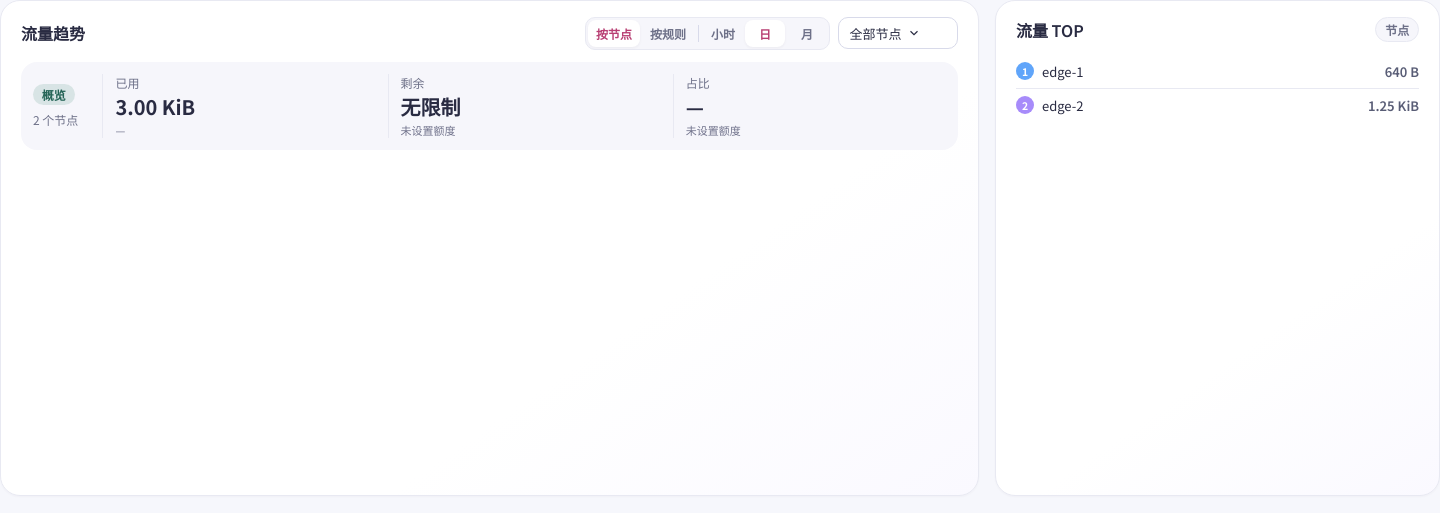
Test: DashboardTrafficModule › drives the traffic TOP card from the shared view switch
Expected: the element with class "dt-top-item" showing "1 edge-1 640 B" is shown, [1016,54,1419,89]
Click the button with test id "trend-view-btn" showing "按规则".
click(668, 33)  # box [642,20,694,47]
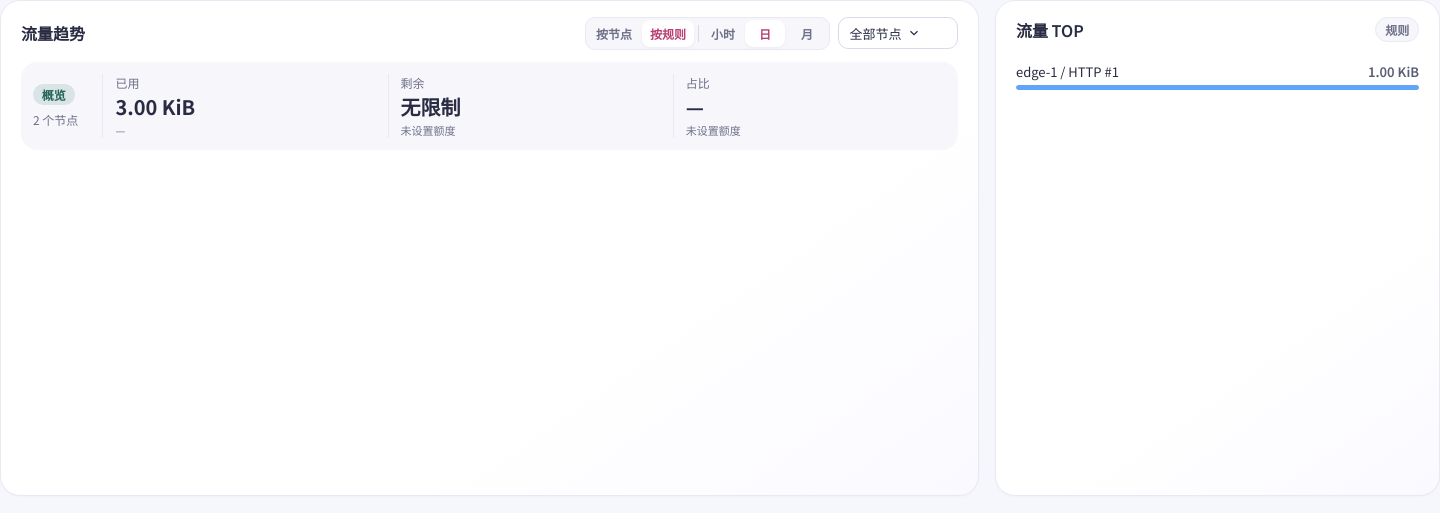
Expected: the element with class "dt-top-rule" is shown, [1016,54,1419,97]
